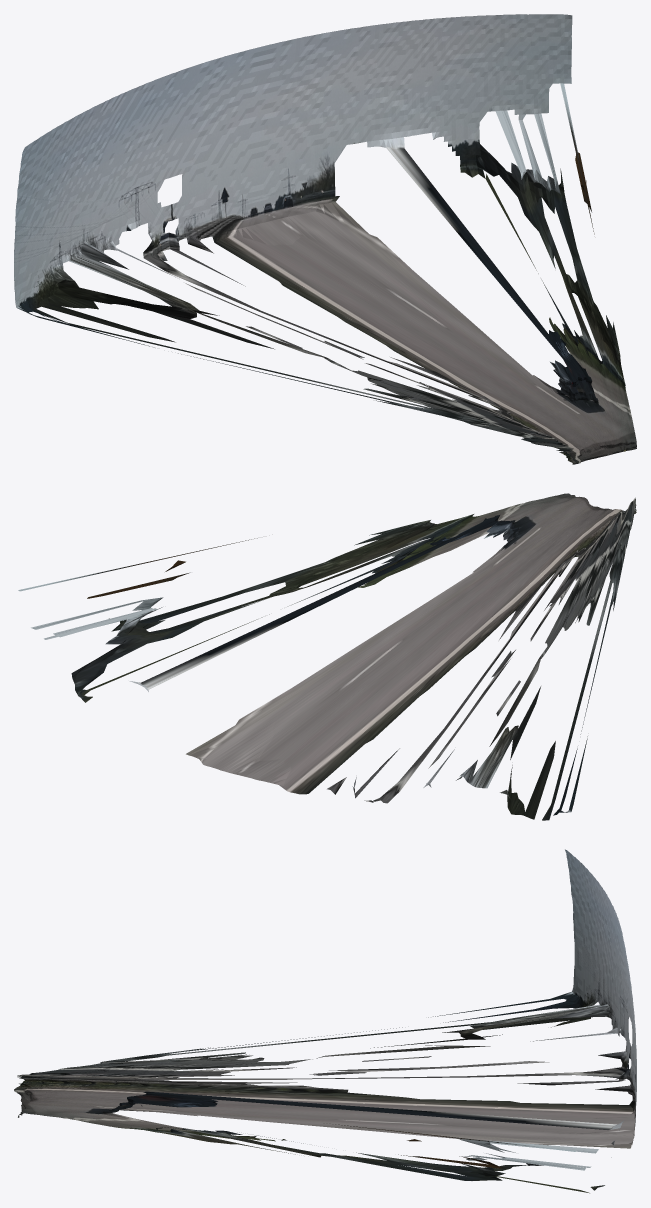
3 views of the same model, one above another, from view 1: azimuth 30°, elevation 25°; view 2: azimuth 150°, elevation 25°; view 3: azimuth 270°, elevation 25° (orthographic). The views are drawn at different scales.
Parts seen in each view (by area): view 1: defaultobject; view 2: defaultobject; view 3: defaultobject.
Part boxes in pixels (x1,y1,x2,y2): defaultobject: (14,14,636,464); defaultobject: (18,493,636,820); defaultobject: (14,849,636,1193).
Size of the model in its own units: 41.09 by 13.23 by 44.6.
1 material, 1 textured.
